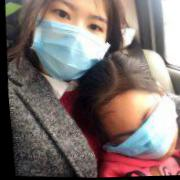OK: (31, 1, 113, 86)
WRONG: (95, 93, 180, 163)
